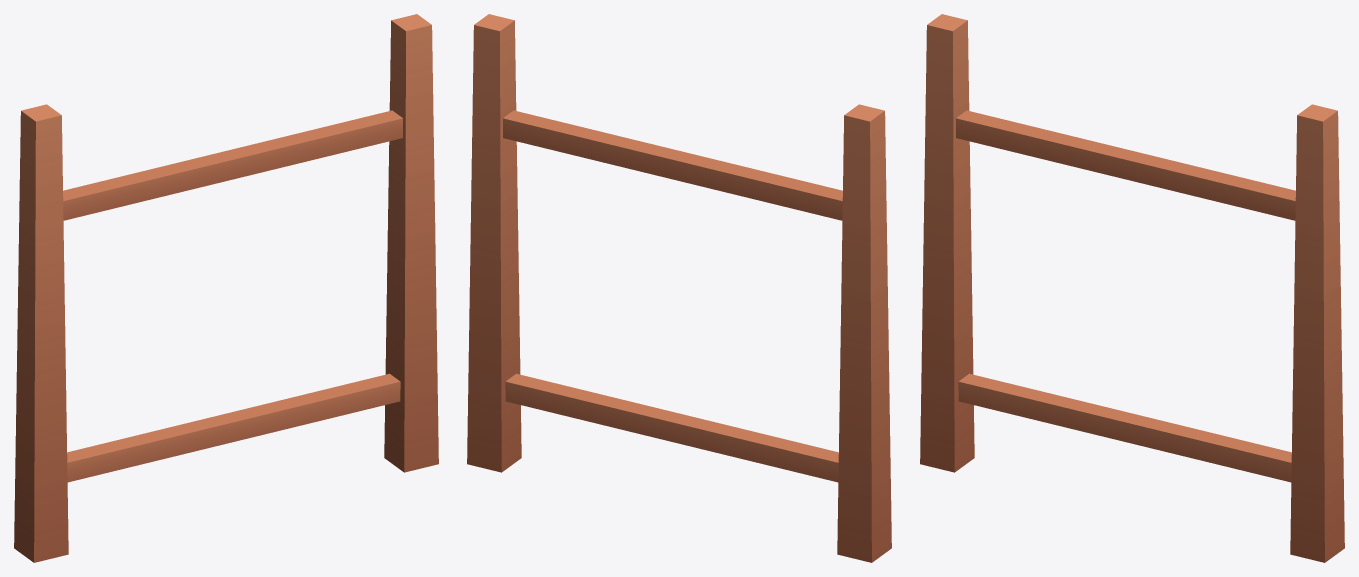
The model's file is fence.obj.
3 renders of one model, left to right at view 1: azimuth 30°, elevation 25°; view 2: azimuth 150°, elevation 25°; view 3: azimuth 330°, elevation 25°, orthographic.
Visible parts, largest first — view 1: fence; view 2: fence; view 3: fence.
Boxes of the visible parts, x1,y1,x2,y2 form: fence: (14, 14, 438, 562); fence: (467, 14, 891, 562); fence: (920, 14, 1344, 562).
Bounding box in the file's own units: 0.5 × 0.5175 × 0.0428.
1 material, 1 textured.
